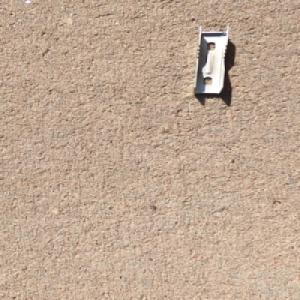ClampPart: (190, 23, 232, 97)
